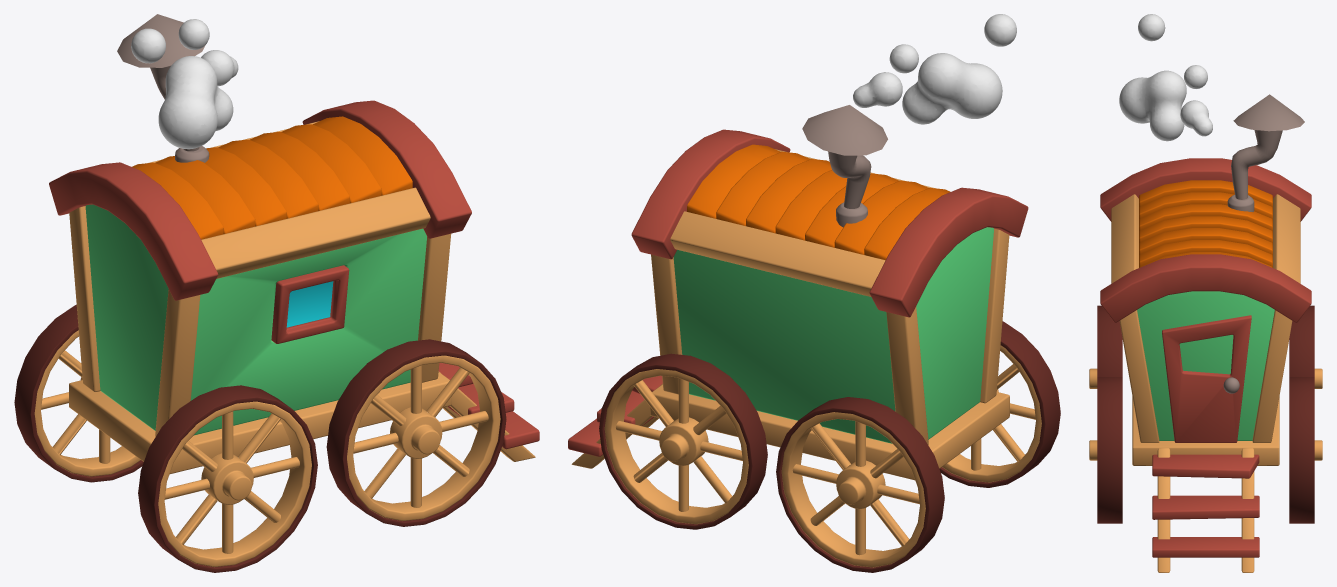
Rendered from WagonWithoutTexture.glb.
3 views of the same model, side by side, from view 1: azimuth 30°, elevation 25°; view 2: azimuth 150°, elevation 25°; view 3: azimuth 270°, elevation 25° (orthographic). The views are drawn at different scales.
Visible parts, largest first — view 1: Wagon, Balls; view 2: Wagon, Balls; view 3: Wagon, Balls.
Part boxes in pixels (left/top/right/bottom): Wagon: left=14, top=14, right=539, bottom=572; Balls: left=131, top=19, right=238, bottom=149; Wagon: left=568, top=105, right=1060, bottom=572; Balls: left=853, top=14, right=1016, bottom=124; Wagon: left=1089, top=94, right=1322, bottom=572; Balls: left=1119, top=14, right=1212, bottom=141.
Bounding box in the file's own units: 5.14 × 6.16 × 3.17.
